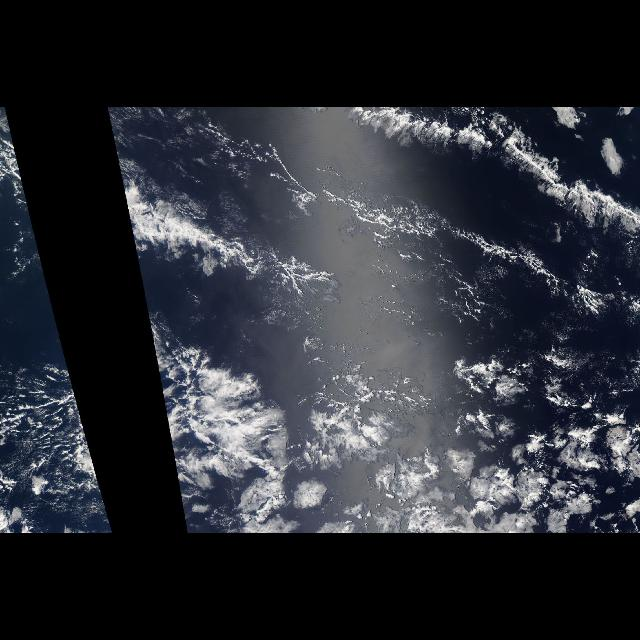Fish: (115, 110, 640, 328)
Flower: (188, 332, 640, 532)
